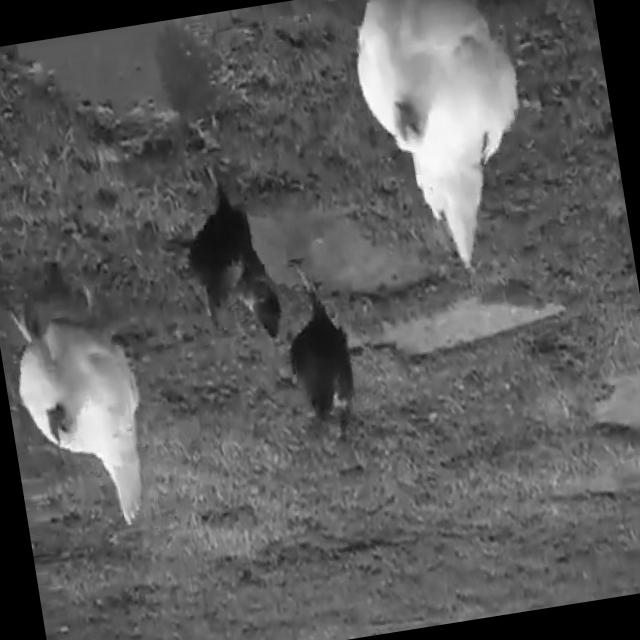running: (338, 0, 549, 284), (0, 283, 165, 543), (150, 142, 291, 344), (268, 256, 382, 459)
